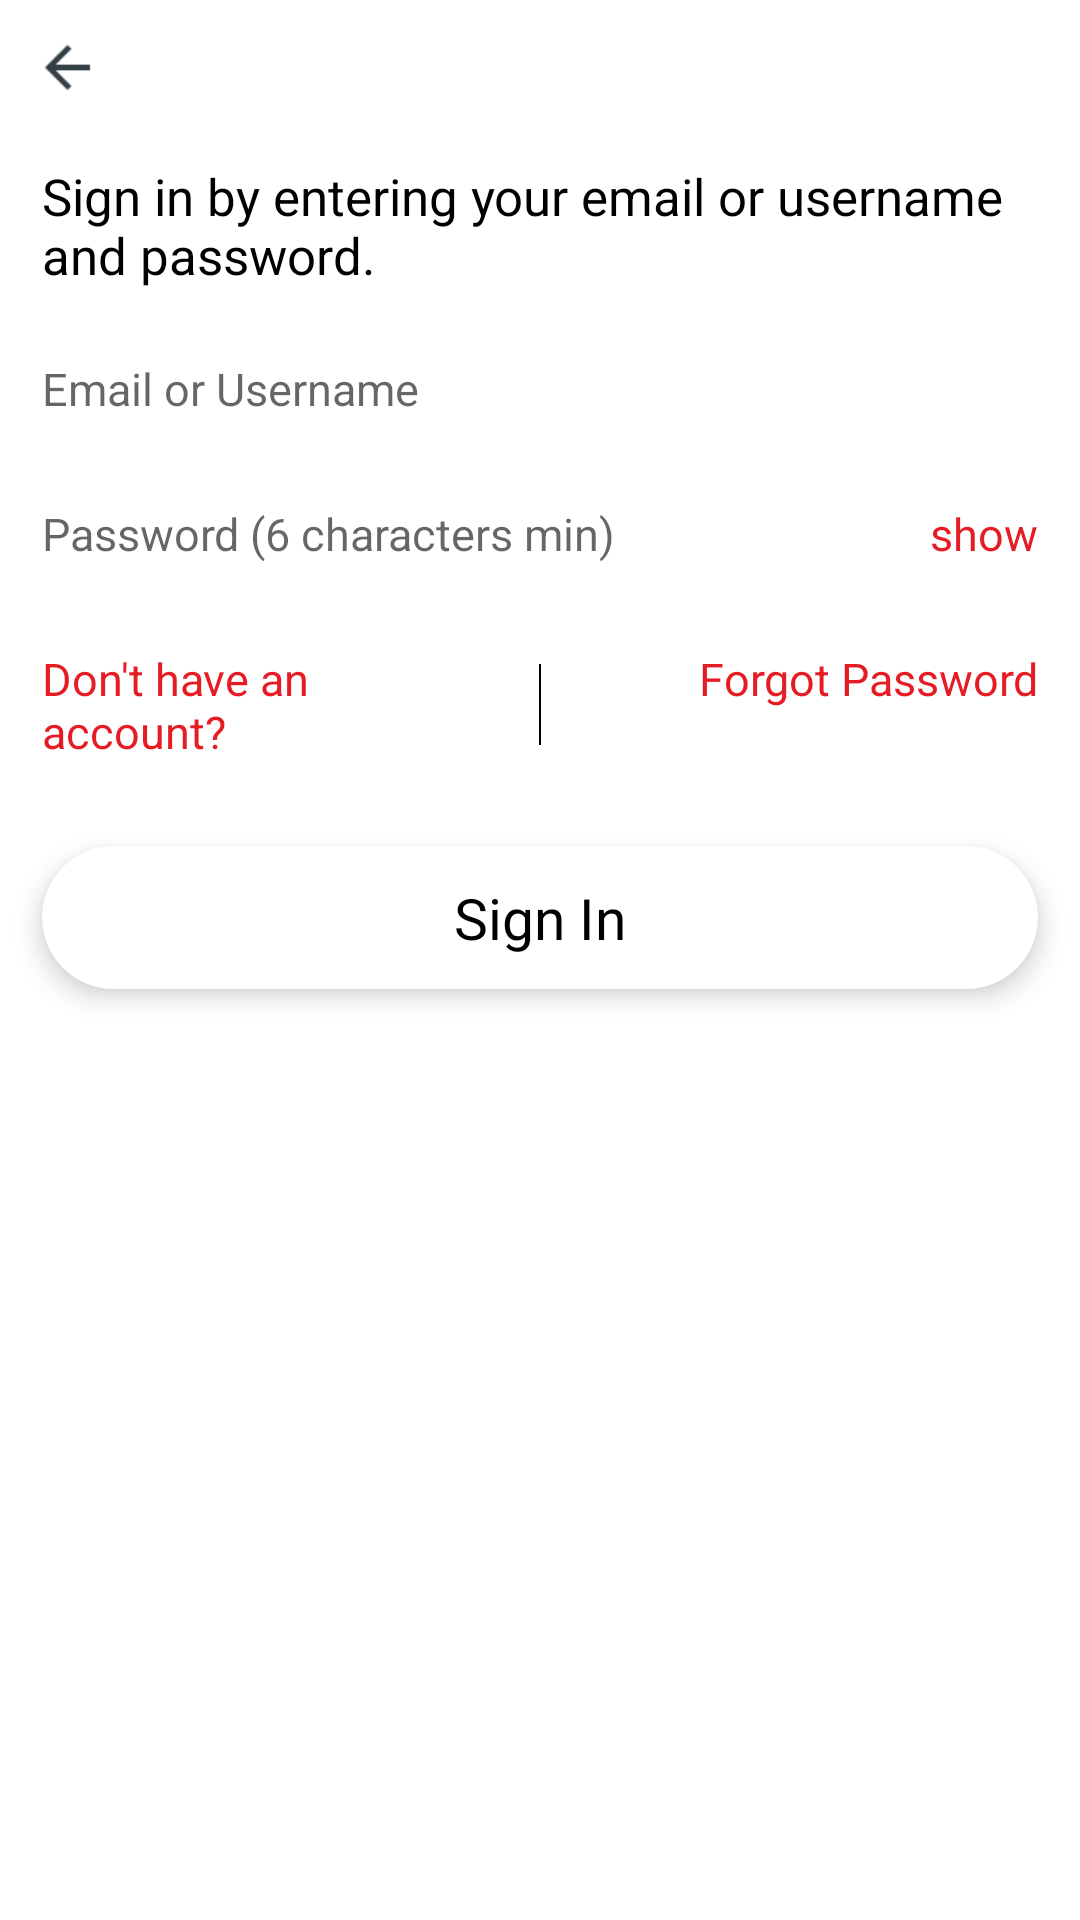

Screen size 1080px x 1920px. Icon name, then its center in pixels as point (x, y):
arrow left: point (68, 67)
